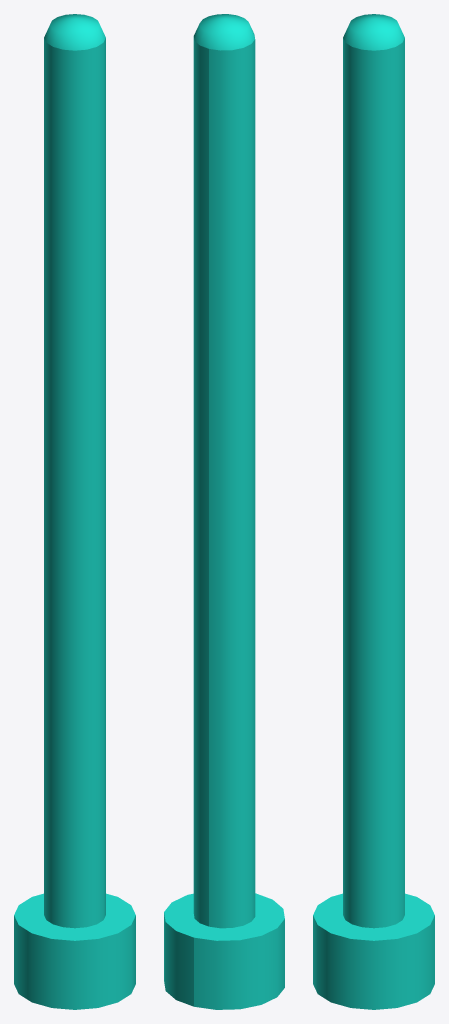
The model's file is Cable_Antenna1.fbx.
3 views of the same model, side by side, from view 1: azimuth 90°, elevation 25°; view 2: azimuth 150°, elevation 25°; view 3: azimuth 270°, elevation 25° (orthographic).
Parts seen in each view (by area): view 1: Cable_Antenna1; view 2: Cable_Antenna1; view 3: Cable_Antenna1.
Boxes of the visible parts, x1,y1,x2,y2 form: Cable_Antenna1: [14, 14, 135, 1009]; Cable_Antenna1: [164, 14, 284, 1009]; Cable_Antenna1: [313, 14, 434, 1009].
Size of the model in its own units: 28.53 by 249 by 28.53.
